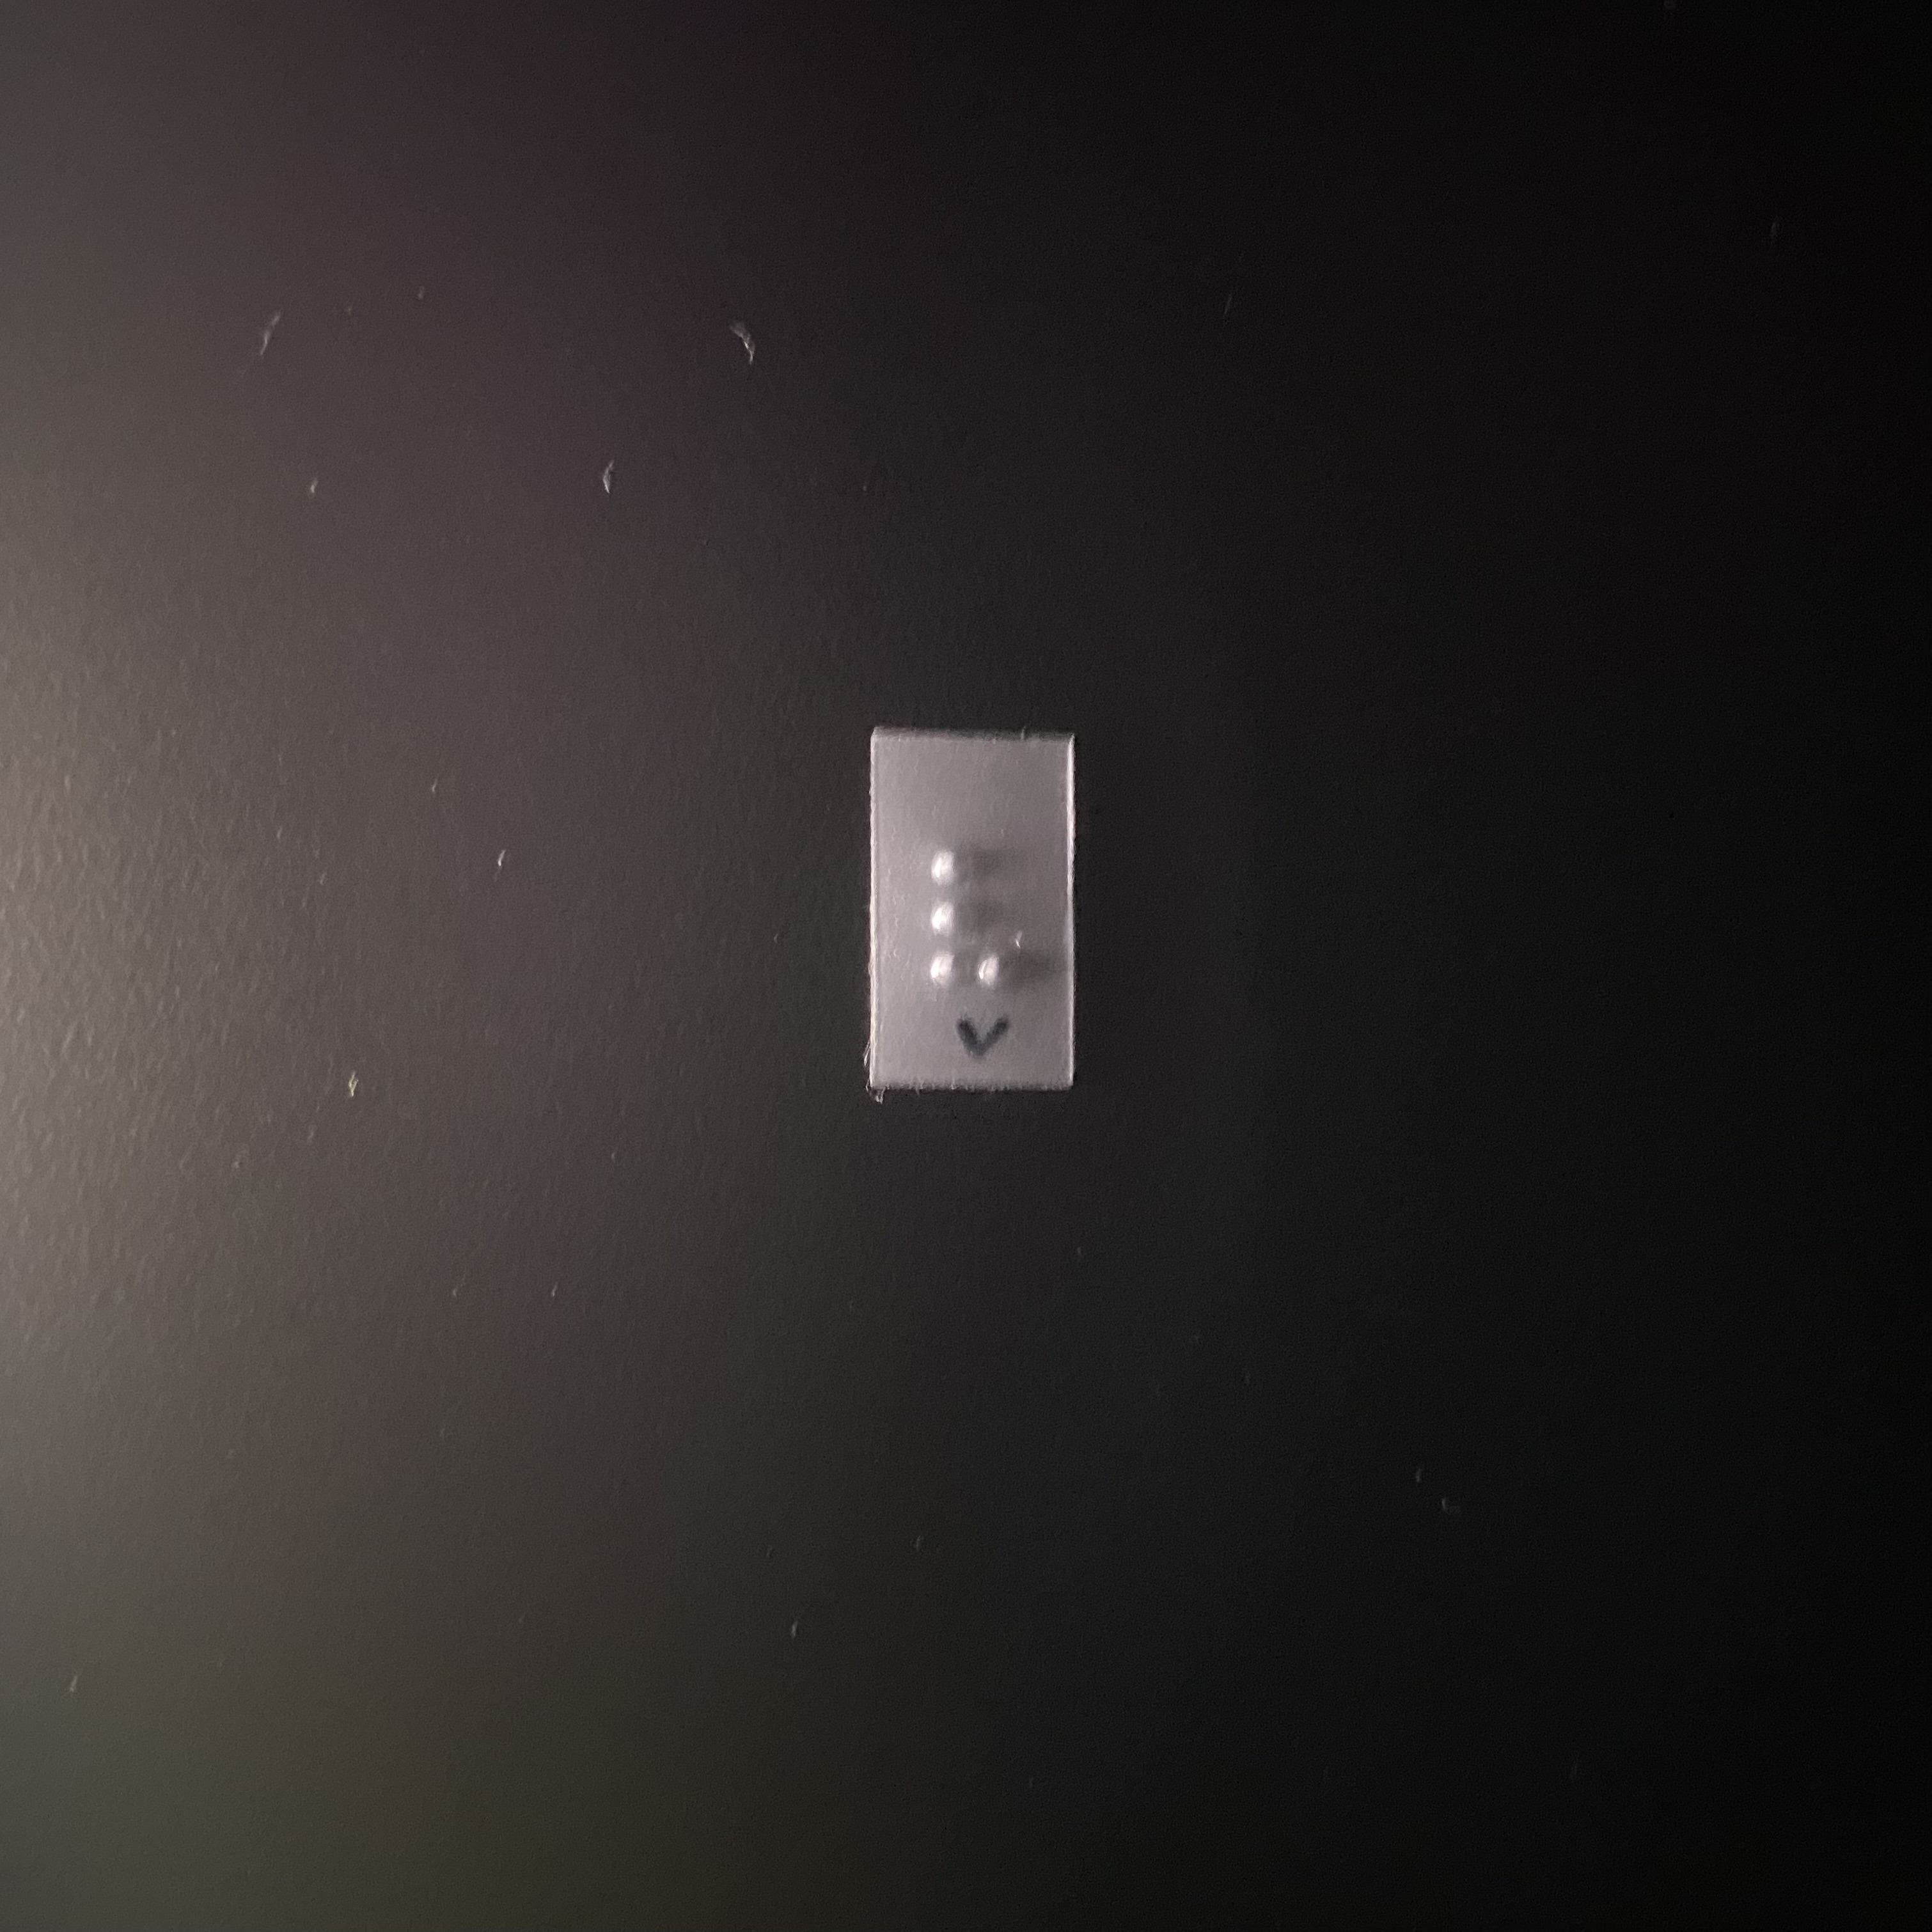v: (911, 835, 1045, 998)
